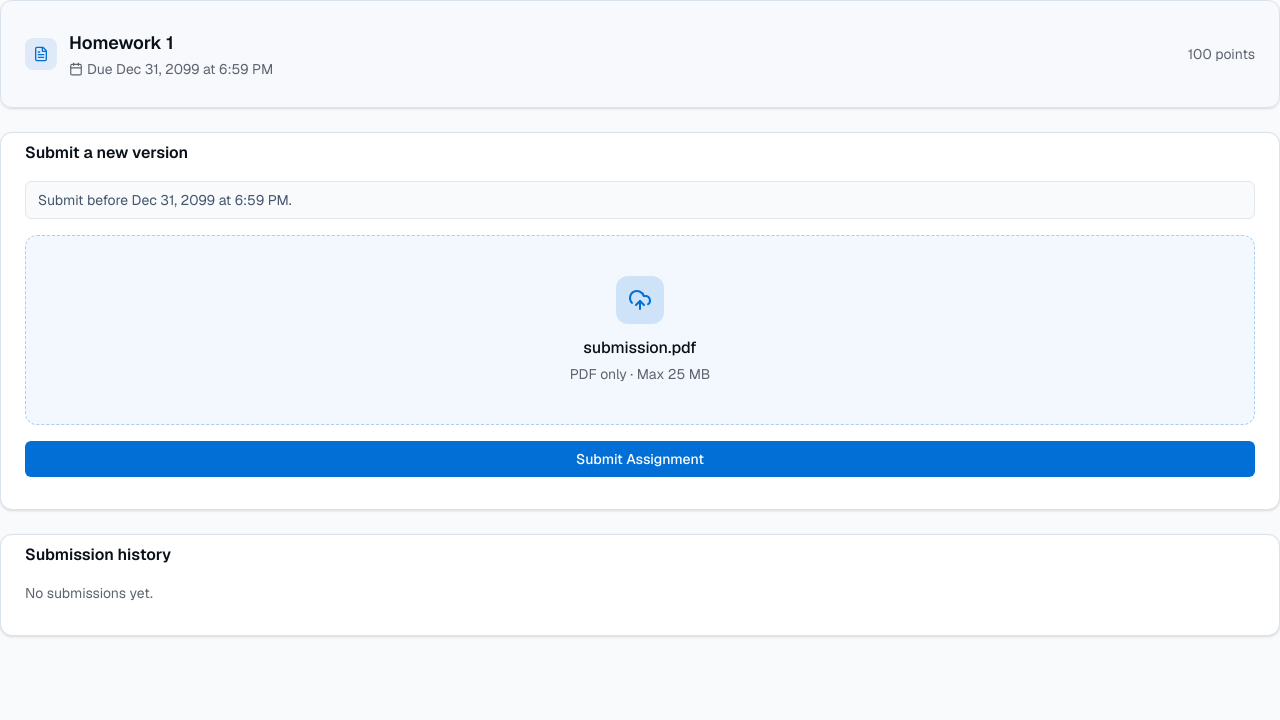
Test: submitNewVersion › shows success message, clears file, and calls router.refresh() on successful submission
Earlier steps of the test are not shown.
Step 1. Click the button "Submit Assignment" → click(640, 459), box [25, 441, 1255, 477]
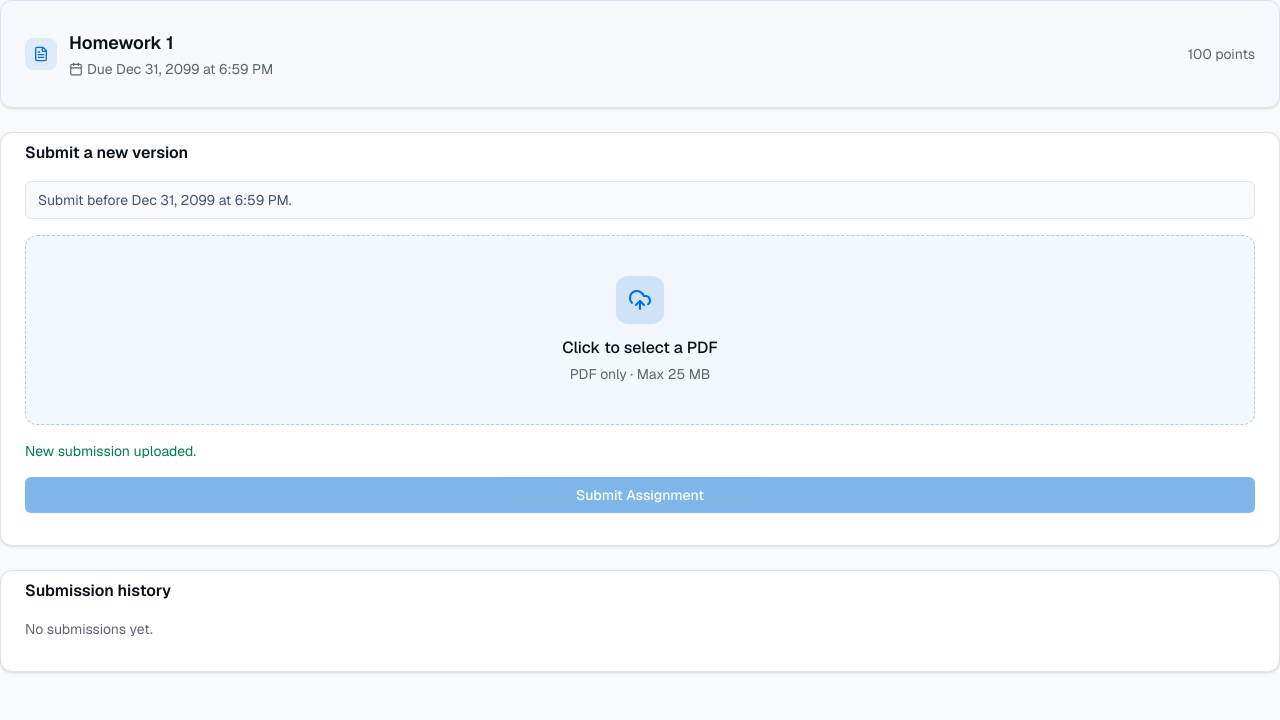
Check: the text "New submission uploaded." is shown, box [25, 442, 196, 460]
Check: the text "submission.pdf" is gone
